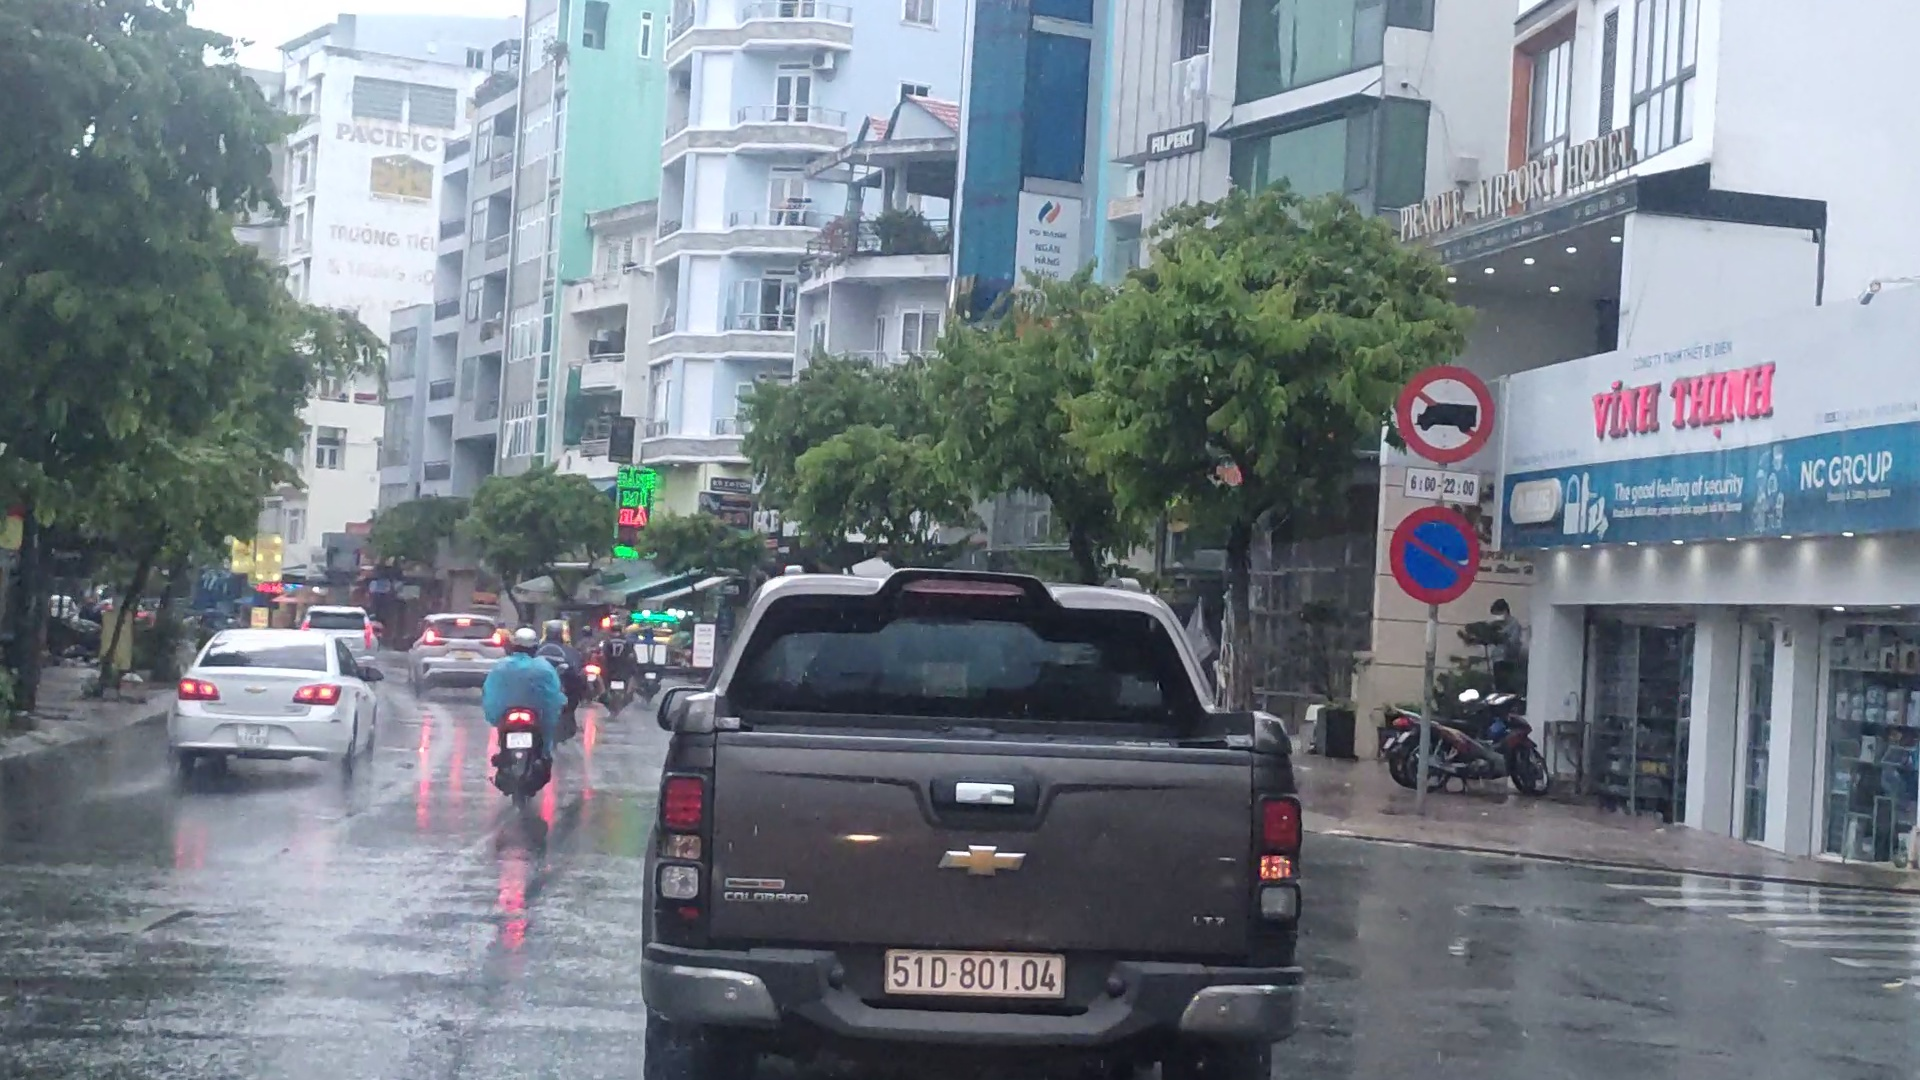P.106a*Xe tải: (1396, 364, 1495, 464)
P.131a: (1386, 501, 1484, 604)
